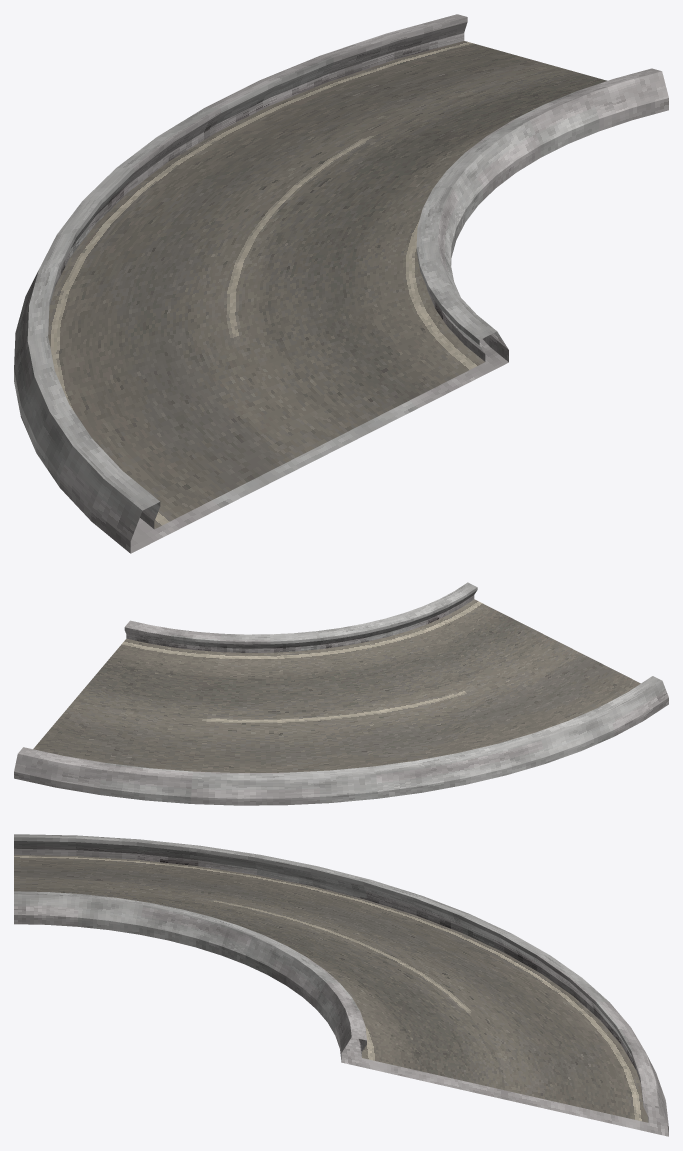
The model's file is turn-right2x2.glb.
3 views of the same model, one above another, from view 1: azimuth 30°, elevation 25°; view 2: azimuth 150°, elevation 25°; view 3: azimuth 270°, elevation 25° (orthographic). The views are drawn at different scales.
Visible parts, largest first — view 1: road-Turn-HalfBankedLeft-HalfBankedLeft-Even-Right-Size2; view 2: road-Turn-HalfBankedLeft-HalfBankedLeft-Even-Right-Size2; view 3: road-Turn-HalfBankedLeft-HalfBankedLeft-Even-Right-Size2.
Boxes of the visible parts, x1,y1,x2,y2 form: road-Turn-HalfBankedLeft-HalfBankedLeft-Even-Right-Size2: [14, 14, 668, 553]; road-Turn-HalfBankedLeft-HalfBankedLeft-Even-Right-Size2: [14, 582, 668, 805]; road-Turn-HalfBankedLeft-HalfBankedLeft-Even-Right-Size2: [14, 834, 668, 1136].
Size of the model in its own units: 2 by 0.3359 by 2.
2 materials, 2 textured.
